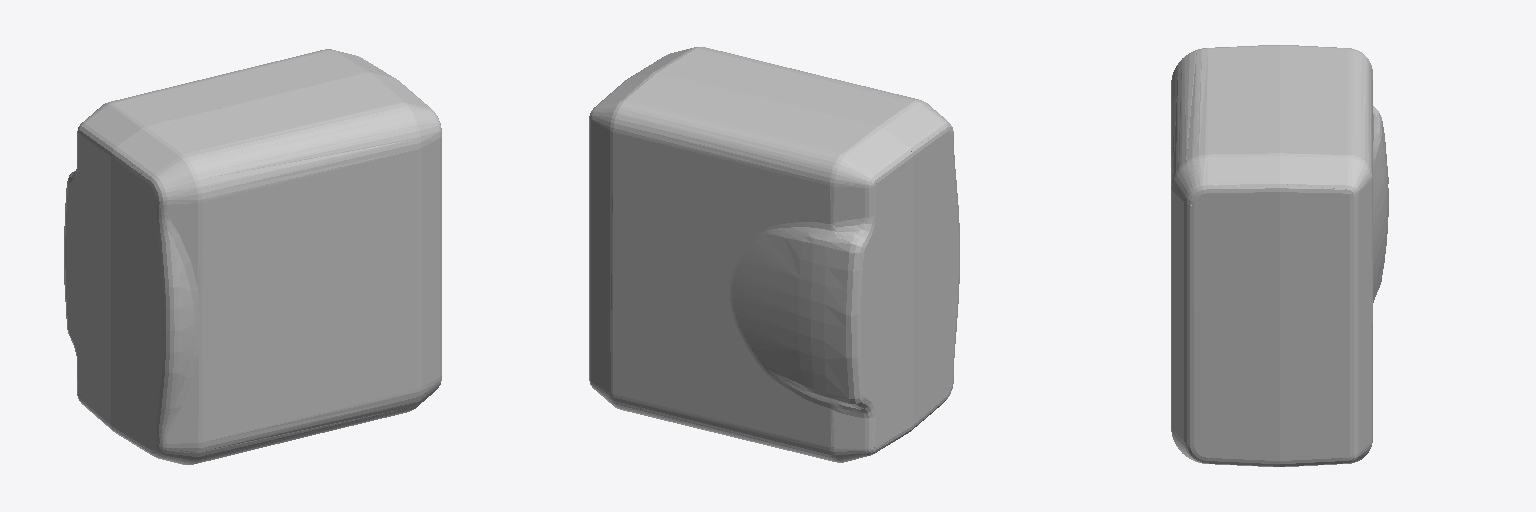
Rendered from gripper_link.obj.
3 renders of one model, left to right at view 1: azimuth 30°, elevation 25°; view 2: azimuth 150°, elevation 25°; view 3: azimuth 270°, elevation 25°, orthographic.
Visible parts, largest first — view 1: gripper_link_gripper link.002_Material_001.028; view 2: gripper_link_gripper link.002_Material_001.028; view 3: gripper_link_gripper link.002_Material_001.028.
Part boxes in pixels (x1,y1,x2,y2): gripper_link_gripper link.002_Material_001.028: (64, 49, 441, 464); gripper_link_gripper link.002_Material_001.028: (589, 47, 959, 462); gripper_link_gripper link.002_Material_001.028: (1171, 45, 1388, 466).
Size of the model in its own units: 0.122 by 0.1261 by 0.0795.